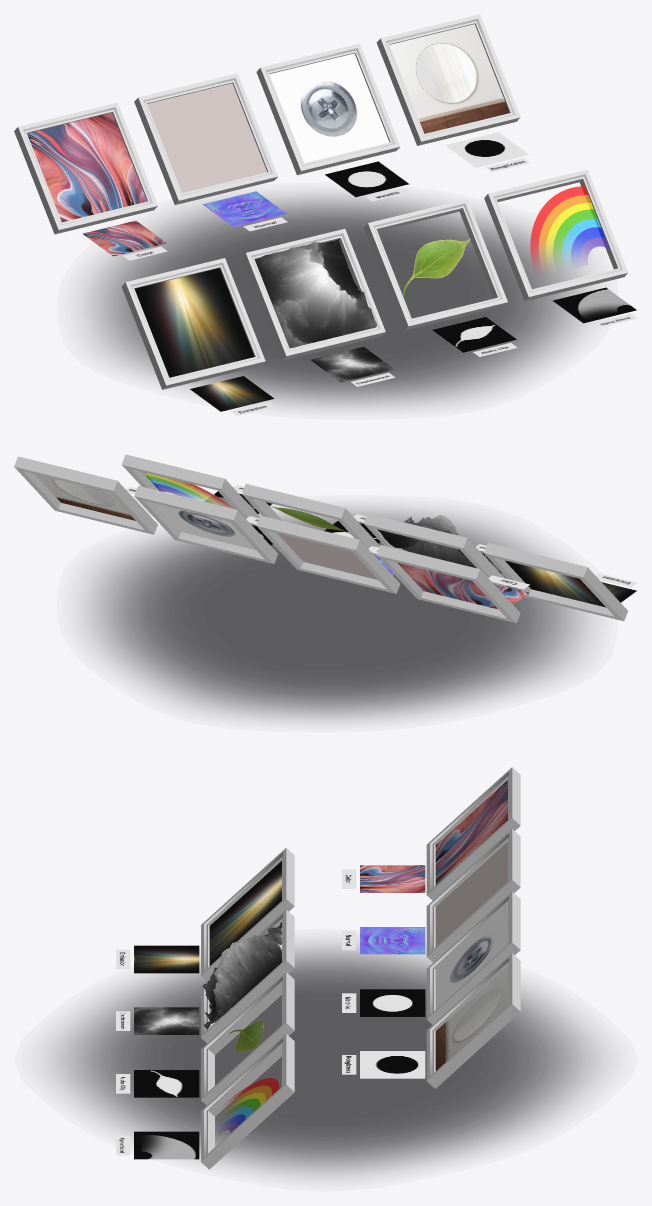
File: mat_maps.glb
The picture shows the model from 3 angles, top to bottom: view 1: azimuth 30°, elevation 25°; view 2: azimuth 150°, elevation 25°; view 3: azimuth 270°, elevation 25°; orthographic projection. The views are drawn at different scales.
Parts seen in each view (by area): view 1: plane_shadow, plate.005, plate.004, plate.001, plate.002, plate.003, plate, frame1.006, frame1.007, plate.007, frame1.004, frame1.001 (+13 smaller); view 2: plane_shadow, frame1, frame1.003, frame1.001, frame1.002, frame1.004, frame1.007, frame1.006, frame1.005, plate.005, plate.002, plate.003 (+5 smaller); view 3: plane_shadow, frame1.007, plate.005, frame1.006, frame1.003, frame1.001, frame1, frame1.002, plate, plate.002, plate.001, plate.003 (+13 smaller).
Boxes of the visible parts, x1=… form: plane_shadow: x1=84, y1=194, x2=590, y2=408; plate.005: x1=254, y1=239, x2=376, y2=348; plate.004: x1=134, y1=268, x2=254, y2=377; plate.001: x1=147, y1=83, x2=266, y2=192; plate.002: x1=269, y1=53, x2=389, y2=162; plate.003: x1=389, y1=24, x2=509, y2=133; plate: x1=27, y1=112, x2=146, y2=222; frame1.006: x1=364, y1=199, x2=507, y2=330; frame1.007: x1=484, y1=169, x2=627, y2=301; plate.007: x1=530, y1=186, x2=609, y2=266; frame1.004: x1=121, y1=258, x2=265, y2=389; frame1.001: x1=134, y1=73, x2=278, y2=204; plane_shadow: x1=83, y1=506, x2=591, y2=720; frame1: x1=376, y1=545, x2=520, y2=623; frame1.003: x1=14, y1=456, x2=157, y2=534; frame1.001: x1=256, y1=515, x2=400, y2=593; frame1.002: x1=134, y1=486, x2=277, y2=563; frame1.004: x1=484, y1=543, x2=627, y2=621; frame1.007: x1=121, y1=454, x2=259, y2=525; frame1.006: x1=242, y1=484, x2=379, y2=555; frame1.005: x1=364, y1=513, x2=506, y2=586; plate.005: x1=377, y1=515, x2=494, y2=568; plate.002: x1=155, y1=503, x2=255, y2=550; plate.003: x1=35, y1=474, x2=135, y2=520; plane_shadow: x1=48, y1=943, x2=603, y2=1176; frame1.007: x1=201, y1=1034, x2=294, y2=1169; plate.005: x1=203, y1=922, x2=281, y2=1029; frame1.006: x1=201, y1=972, x2=294, y2=1105; frame1.003: x1=426, y1=953, x2=520, y2=1088; frame1.001: x1=426, y1=829, x2=520, y2=962; frame1: x1=426, y1=767, x2=520, y2=900; frame1.002: x1=426, y1=891, x2=520, y2=1024; plate: x1=435, y1=780, x2=507, y2=885; plate.002: x1=435, y1=904, x2=507, y2=1009; plate.001: x1=435, y1=842, x2=507, y2=946; plate.003: x1=435, y1=966, x2=507, y2=1070.
Bounding box in the file's own units: 364 × 112 × 364.
19 materials, 17 textured.
